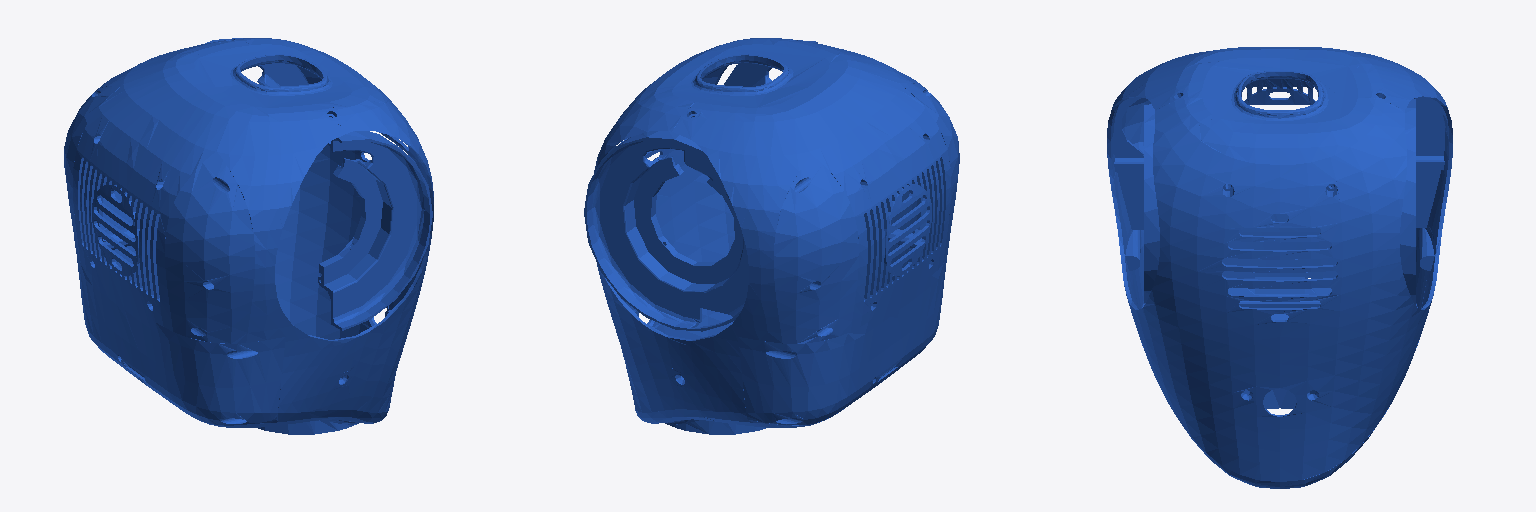
Rendered from torso_blue.obj.
3 renders of one model, left to right at view 1: azimuth 30°, elevation 25°; view 2: azimuth 150°, elevation 25°; view 3: azimuth 270°, elevation 25°, orthographic.
Parts seen in each view (by area): view 1: ShapeIndexedFaceSet; view 2: ShapeIndexedFaceSet; view 3: ShapeIndexedFaceSet.
Part boxes in pixels (bbox=[...]): ShapeIndexedFaceSet: bbox=[64, 38, 433, 434]; ShapeIndexedFaceSet: bbox=[584, 38, 959, 434]; ShapeIndexedFaceSet: bbox=[1107, 47, 1452, 488].
Size of the model in its own units: 5.33 by 6.45 by 5.63.